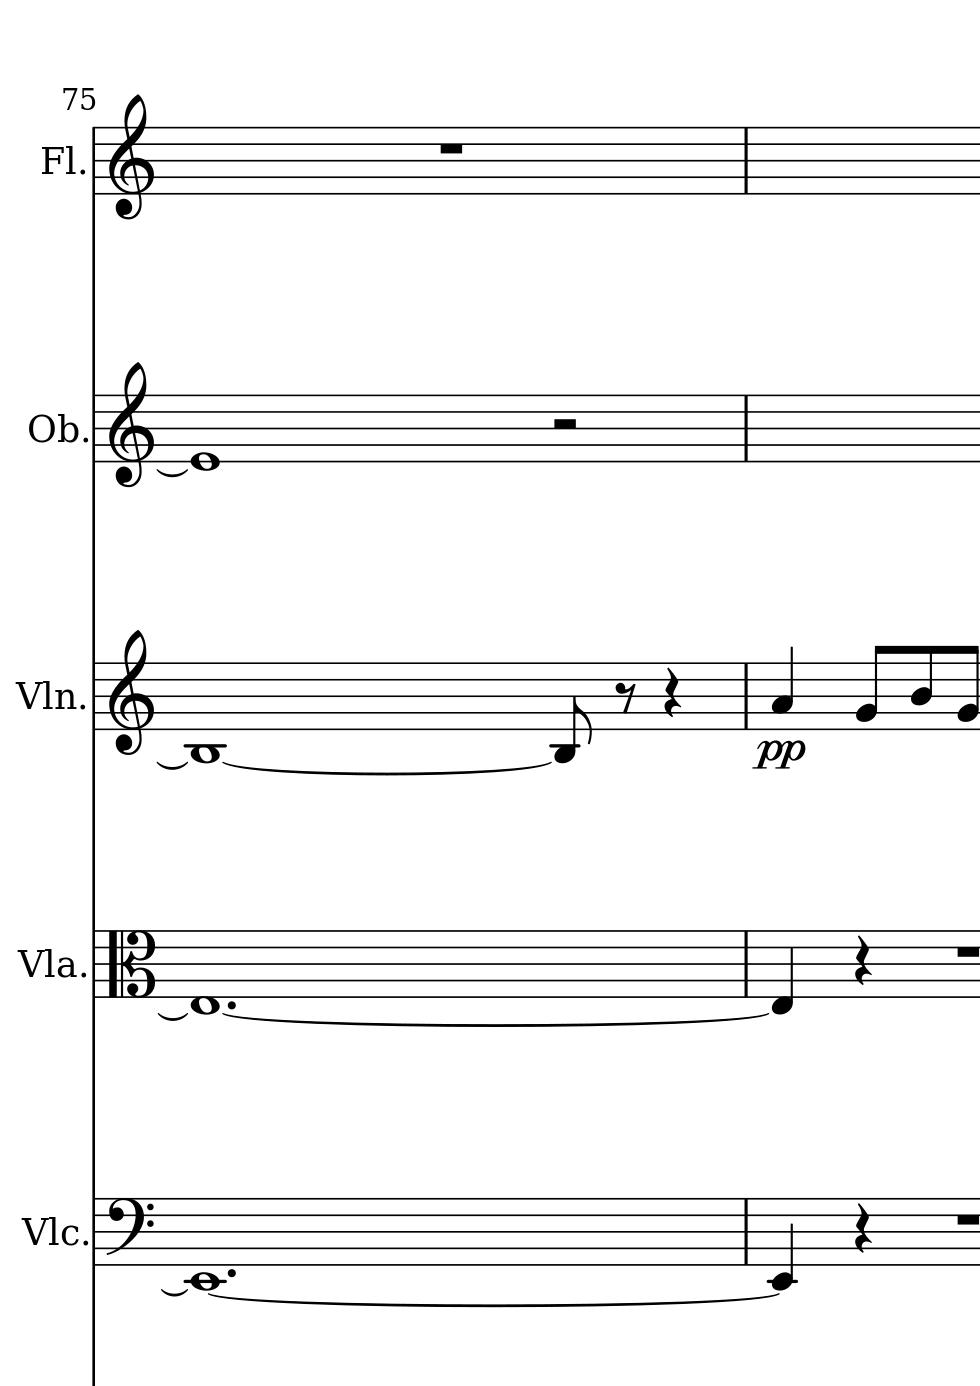1_-1: (186, 659, 225, 765), (189, 928, 222, 1017)
1_-2: (187, 1192, 223, 1293)
1_0: (189, 392, 222, 473)
4_-1: (769, 929, 797, 1016)
4_-2: (767, 1195, 798, 1292)
4_3: (770, 645, 795, 731)
5: (78, 85, 97, 113)
7: (62, 86, 78, 113)
8_-3: (550, 660, 593, 764)
8_2: (852, 643, 886, 732), (953, 643, 978, 732)
8_4: (908, 644, 935, 732)
Cclef: (104, 928, 159, 1001)
Fclef: (103, 1196, 155, 1268)
Fl: (38, 142, 77, 180)
Gclef: (106, 627, 154, 756), (106, 93, 154, 221), (107, 361, 154, 489)
Ob: (27, 409, 78, 450)
Rests1: (435, 138, 467, 158), (951, 943, 979, 960), (951, 1211, 979, 1227)
Rests2: (549, 415, 581, 434)
Rests4: (661, 666, 682, 720), (851, 1201, 872, 1255), (852, 934, 872, 988)
Rests8: (613, 680, 636, 715)
Single_barline: (85, 930, 104, 998), (737, 394, 754, 462), (737, 128, 754, 194), (737, 931, 754, 997), (87, 394, 103, 463), (87, 1198, 103, 1267), (738, 663, 754, 730), (738, 1199, 754, 1265), (87, 127, 102, 196), (87, 663, 102, 731)
Slur: (224, 1012, 771, 1030), (203, 1294, 781, 1308), (221, 761, 554, 780), (153, 1011, 189, 1023), (153, 468, 191, 479), (158, 1286, 188, 1299), (157, 760, 187, 772)
Vla: (16, 942, 77, 987)
Vlc: (20, 1211, 82, 1252)
Vln: (14, 674, 78, 719)
dot: (225, 1265, 239, 1281), (224, 998, 238, 1012)
pp: (751, 738, 808, 773)
